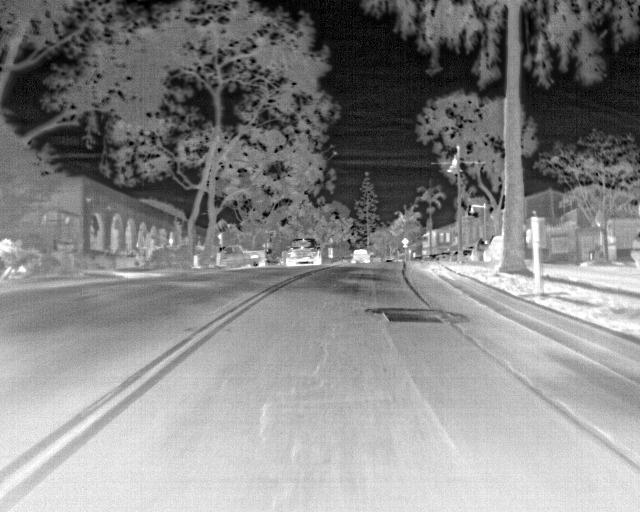car: (285, 237, 322, 266), (219, 246, 255, 265), (483, 234, 501, 261), (350, 248, 370, 263)
